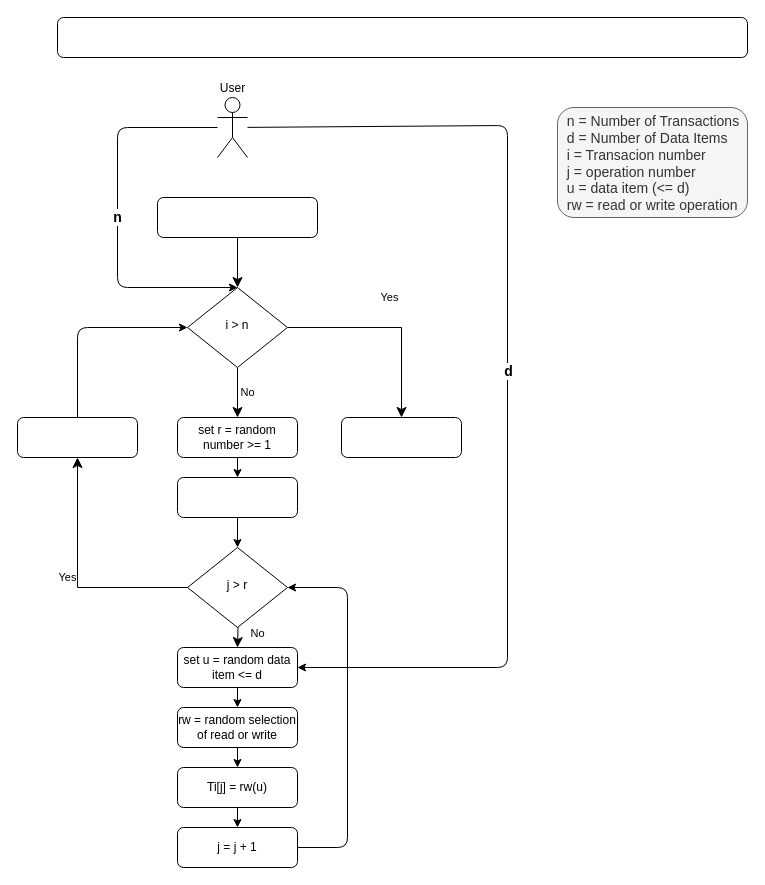
Image size: 765x885. Some labels were removed from this diagram. Here are the shapes that lost their labels. From the top down, the centre of each, then its label:
At point (402, 37): "Transaction Generator".
At point (237, 217): "Transaction number (i) = 1".
At point (77, 437): "i = i + 1".
At point (401, 437): "Send Transacions to TM".
At point (237, 497): "set j = 1".
